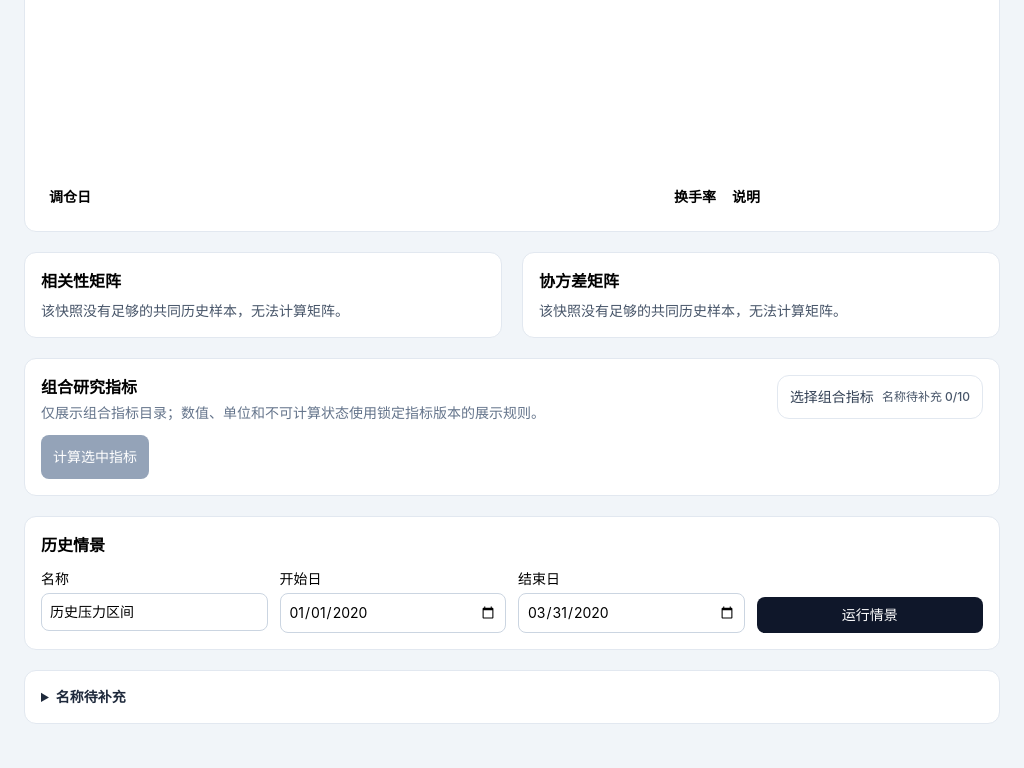
Test: HoldingDiagnosis AI 助手接入 › 情景失败保留 error，重试成功后恢复 ready（已有结果：false）
(page scrolled)
Click the button "运行情景" at (870, 615), box [756, 597, 983, 633]
(page scrolled)
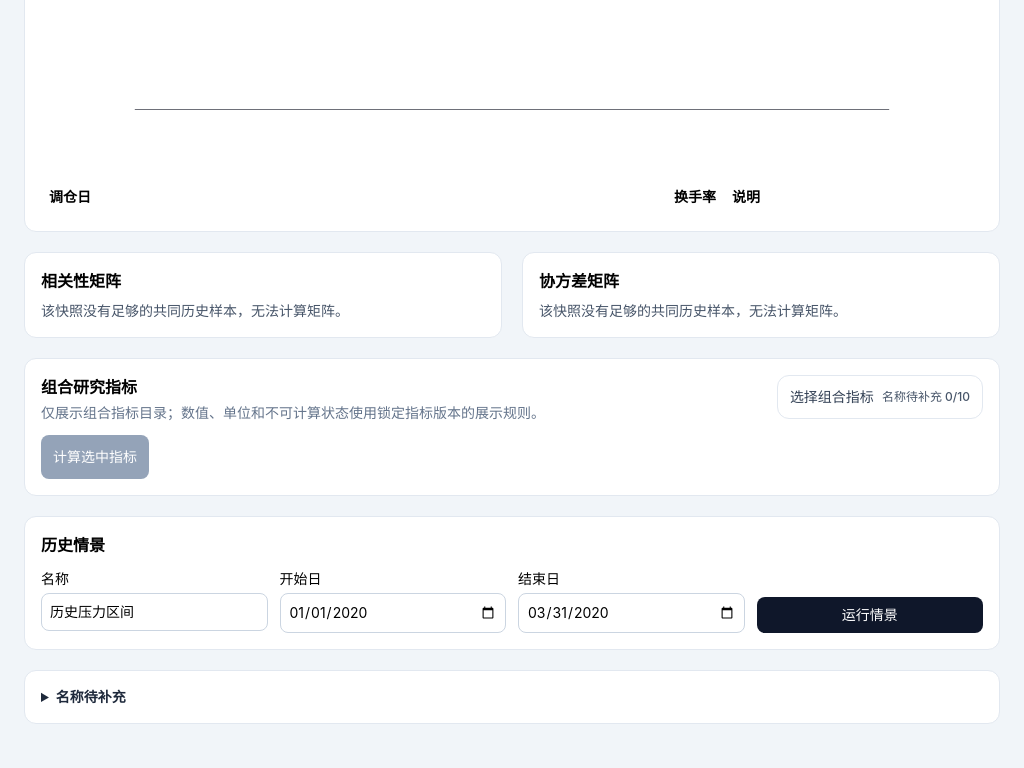
Click the button "运行情景" at (870, 615), box [756, 597, 983, 633]
(page scrolled)
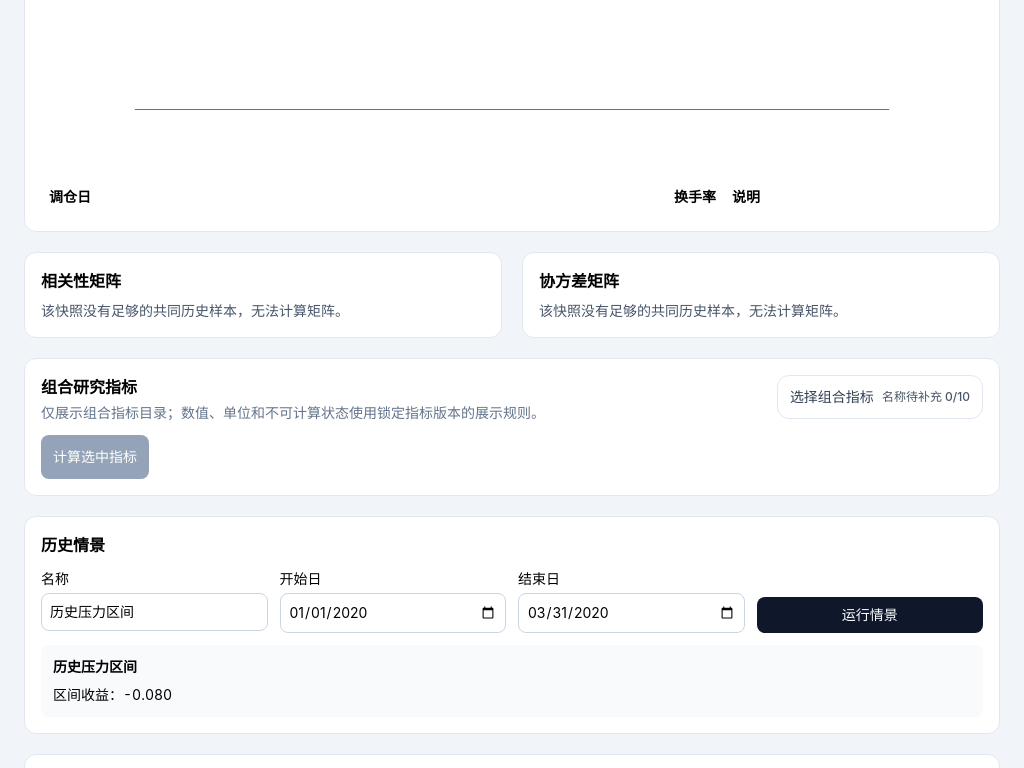
Check: the list item "区间收益：-0.080" is shown, box [53, 685, 172, 705]
